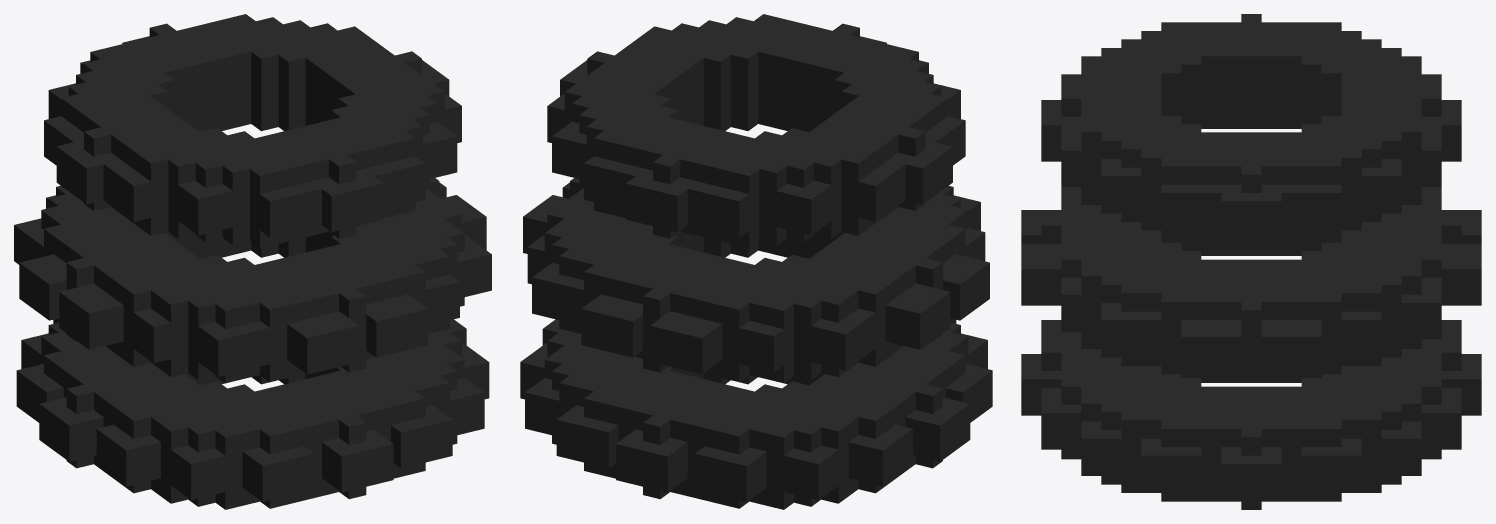
The model's file is tires-3.obj.
3 renders of one model, left to right at view 1: azimuth 30°, elevation 25°; view 2: azimuth 150°, elevation 25°; view 3: azimuth 270°, elevation 25°, orthographic.
Size of the model in its own units: 2.3 by 1.8 by 2.3.
